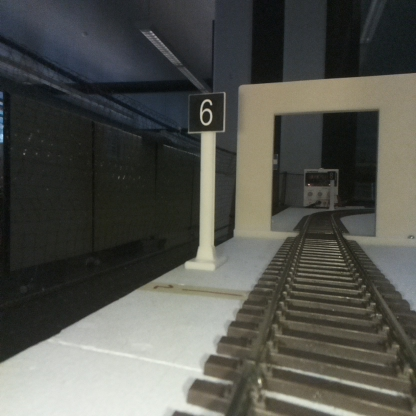black-info-6: (189, 93, 223, 267)
